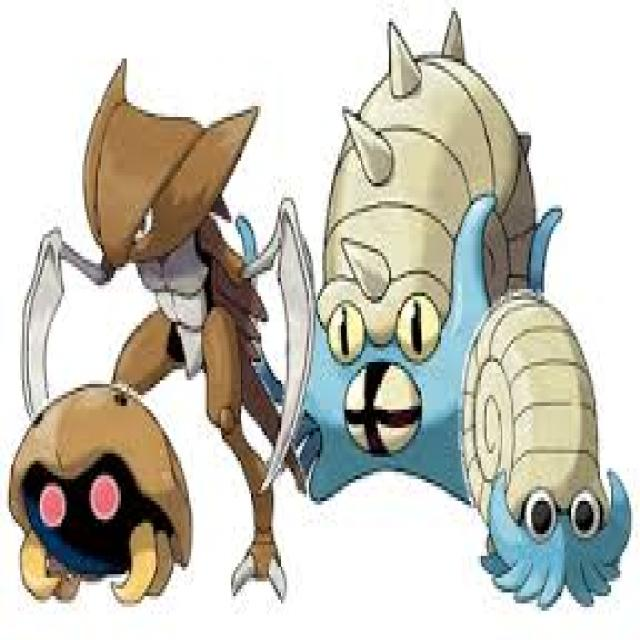Kabuto: (13, 386, 190, 586)
Kabutops: (60, 83, 272, 433)
Omanyte: (462, 293, 610, 603)
Omastar: (312, 31, 496, 472)
